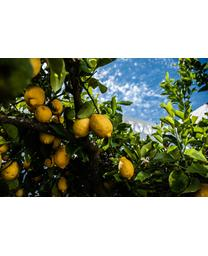lemon: (90, 113, 114, 138), (23, 85, 47, 109), (118, 154, 134, 182), (32, 105, 52, 122), (72, 118, 92, 135), (3, 160, 19, 181)
